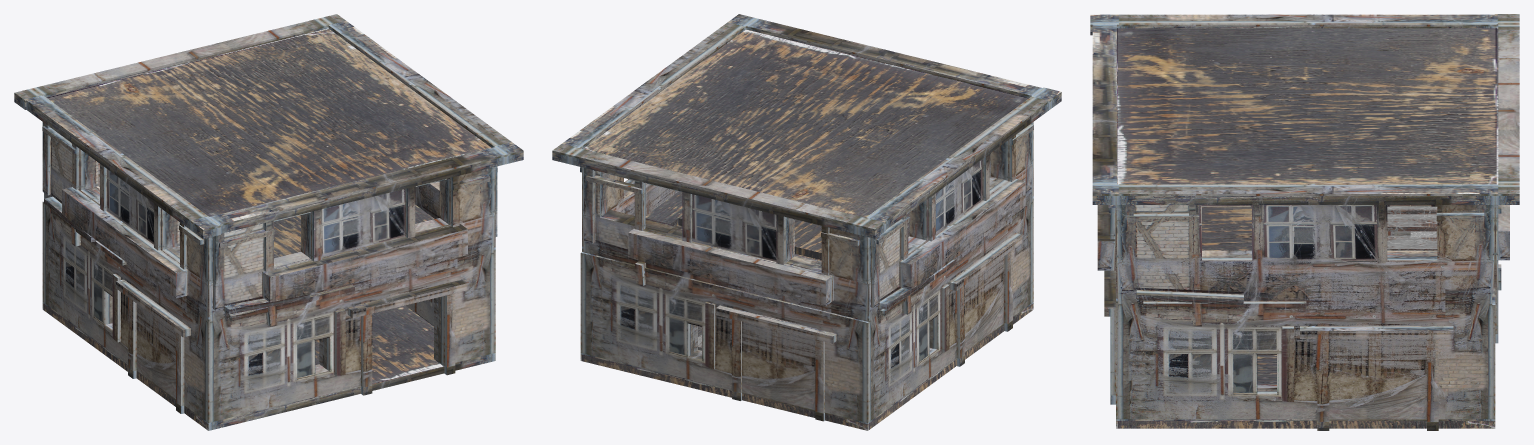
Rendered from BagBuilding11High.fbx.
3 views of the same model, side by side, from view 1: azimuth 30°, elevation 25°; view 2: azimuth 150°, elevation 25°; view 3: azimuth 270°, elevation 25° (orthographic). The views are drawn at different scales.
Visible parts, largest first — view 1: main300, floors300, interior300; view 2: main300, floors300, interior300; view 3: main300, floors300, stairs300, interior300.
Boxes of the visible parts, x1,y1,x2,y2 form: main300: [26, 18, 512, 430]; floors300: [42, 28, 491, 430]; interior300: [14, 14, 523, 374]; main300: [562, 18, 1050, 424]; floors300: [580, 29, 1033, 430]; interior300: [552, 14, 1061, 355]; main300: [1092, 14, 1519, 430]; floors300: [1116, 27, 1498, 428]; stairs300: [1387, 206, 1437, 250]; interior300: [1090, 14, 1519, 235].
Size of the model in its own units: 14.68 by 9.29 by 14.78.
